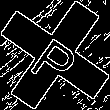P_NE: (25, 23, 85, 87)
